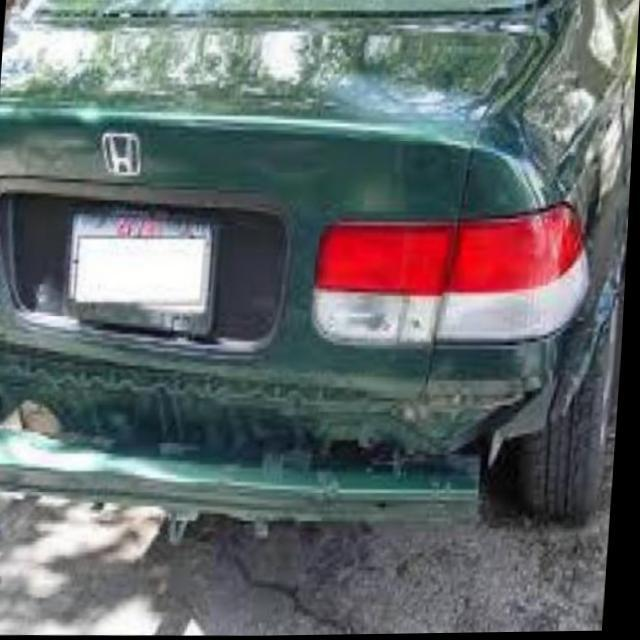no part: (0, 316, 602, 529)
